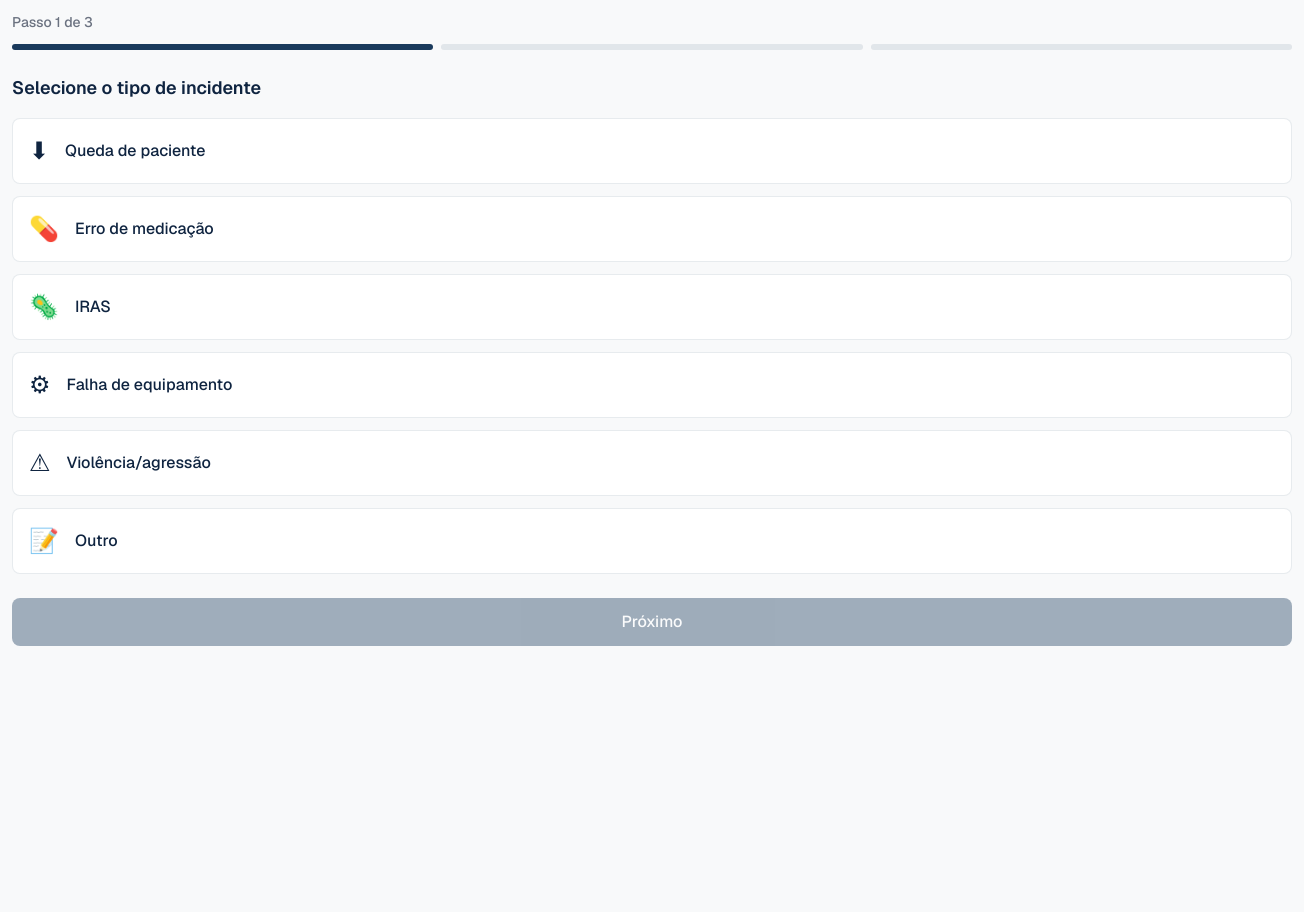
Scenario: FormularioNotificacao › volta do passo 2 para passo 1
This screenshot has width=1304, height=912.
Click the text "Queda de paciente".
click(135, 151)  # box [65,139,205,163]
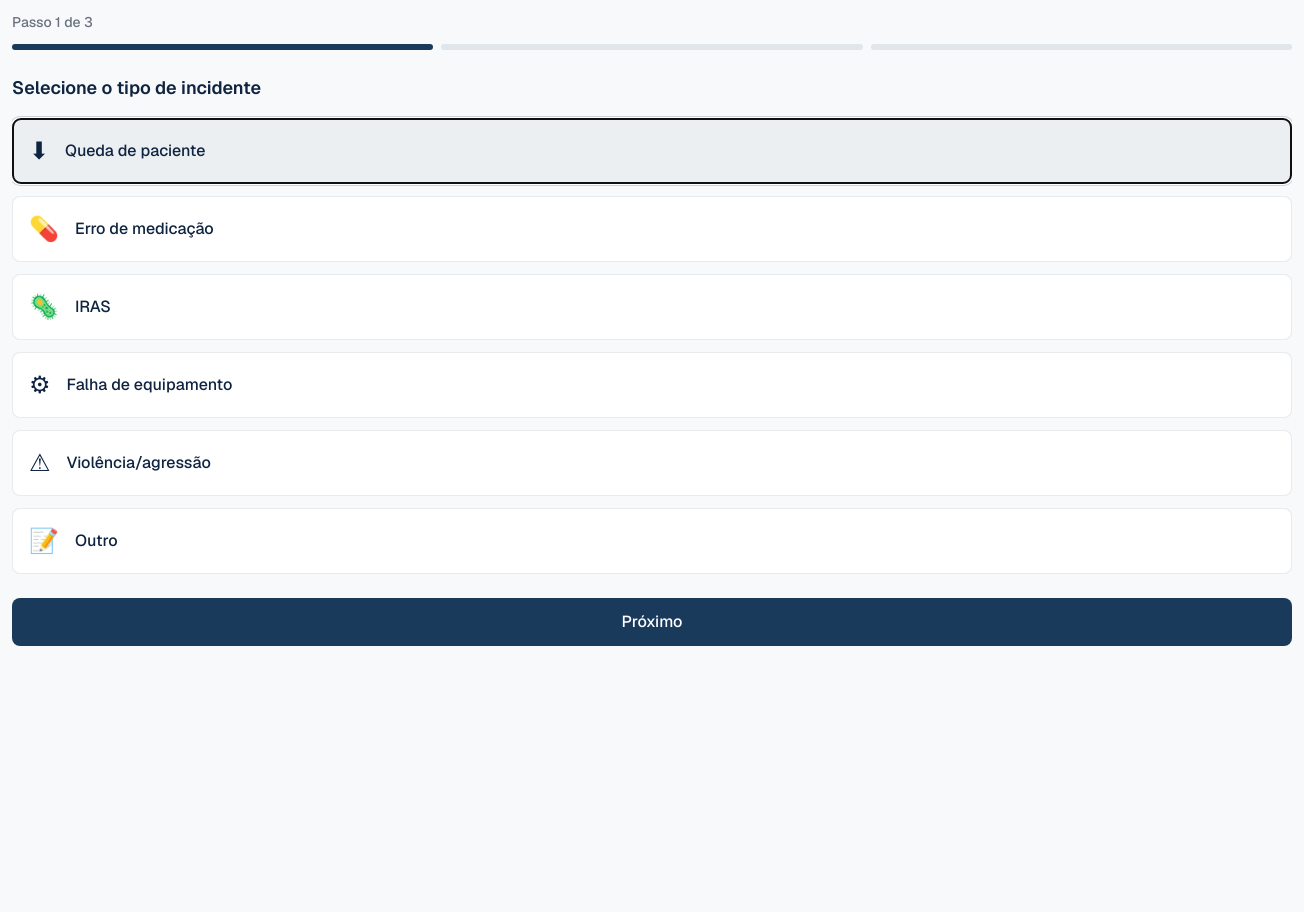
Click the button "Próximo".
click(652, 622)  # box [12,598,1292,646]
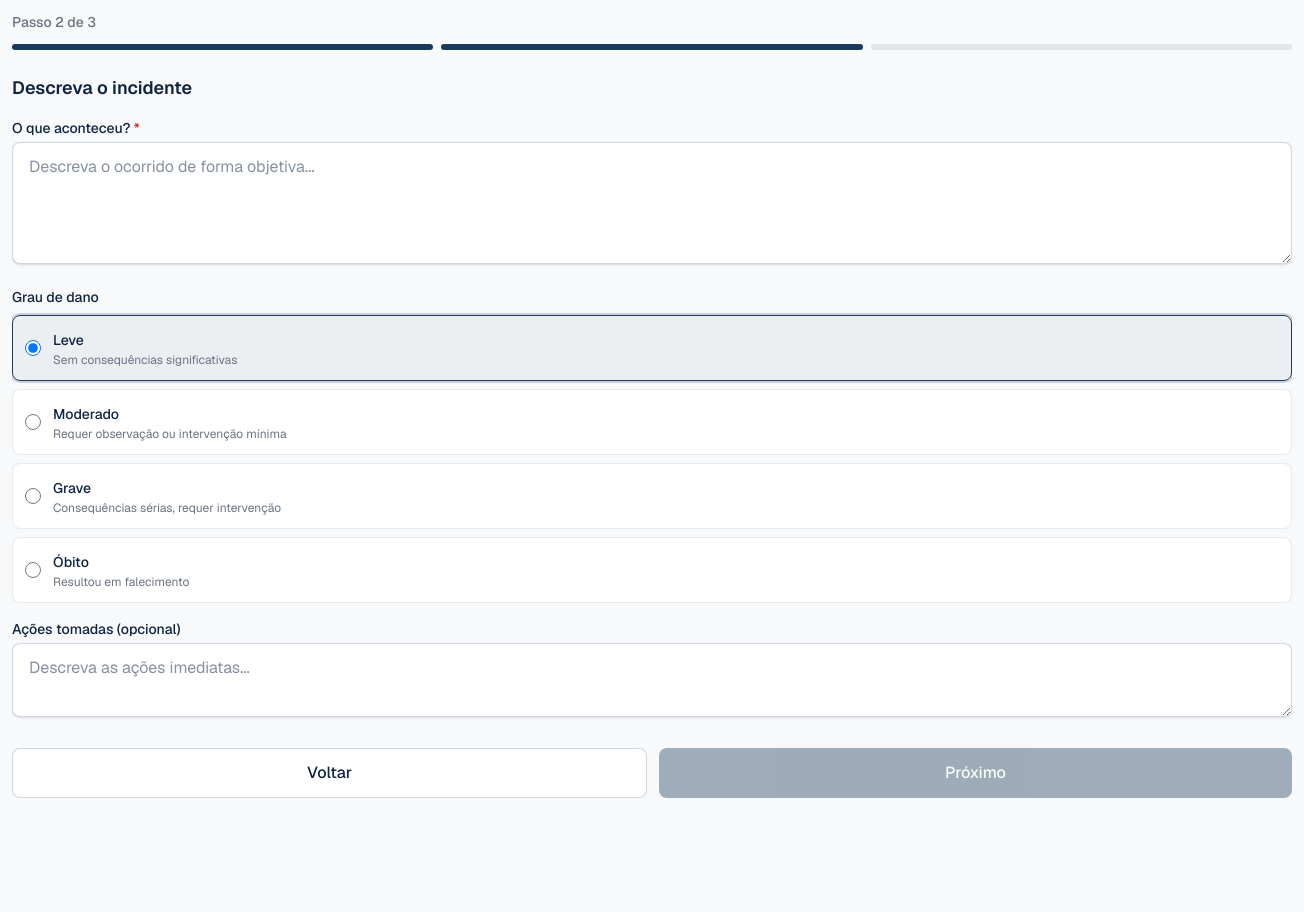
Click the button "Voltar".
click(330, 773)  # box [12,748,647,798]
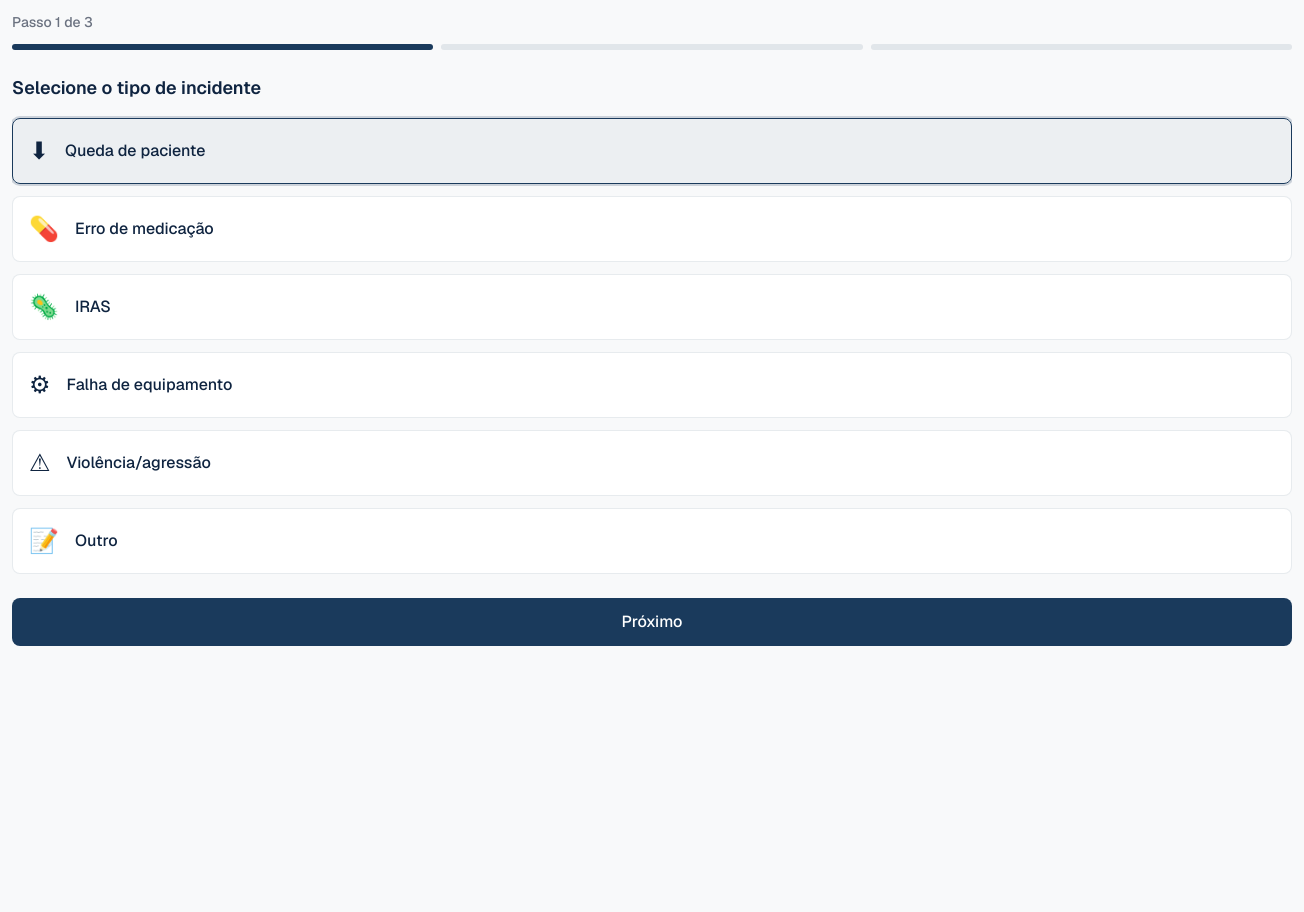
Expected: the text "Passo 1 de 3" is shown, [12,13,93,31]
